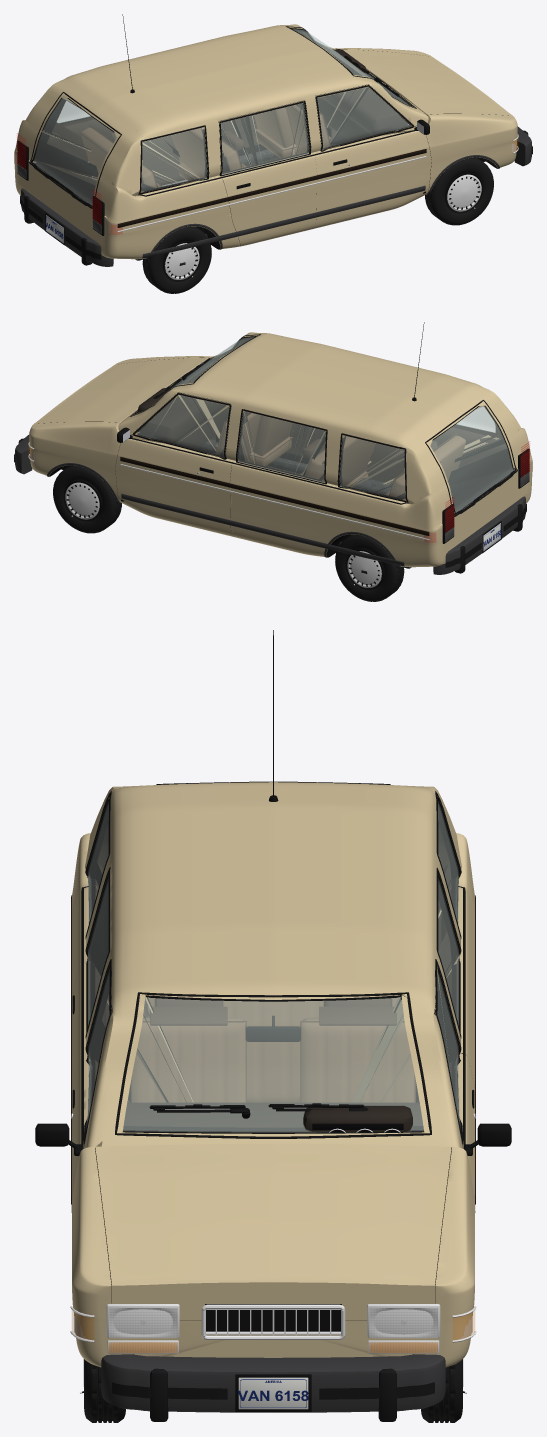
Rendered from minivan86.glb.
3 views of the same model, one above another, from view 1: azimuth 30°, elevation 25°; view 2: azimuth 150°, elevation 25°; view 3: azimuth 270°, elevation 25° (orthographic). The views are drawn at different scales.
Visible parts, largest first — view 1: Body, Interior, Door_FR, Door_SR, Glass_Liftgate, Hood, Glass_SR, Glass, Glass_FR, Wheel_FR_mesh, Wheel_RR_mesh, Trim (+9 smaller); view 2: Body, Glass, Interior, Door_FL, Glass_Liftgate, Hood, Trim, Glass_FL, Wheel_FL_mesh, Wheel_RL_mesh, Trim_FL, Bumper_R (+6 smaller); view 3: Body, Hood, Glass, Interior, Bumper_F, Ends, Trim, Lamps_Head, Door_FL, Door_FR, Door_SR, Trim_FL (+9 smaller).
Boxes of the visible parts, bbox=[...] form: Body: bbox=[14, 24, 517, 259]; Interior: bbox=[81, 49, 407, 187]; Door_FR: bbox=[314, 84, 431, 228]; Door_SR: bbox=[219, 100, 316, 246]; Glass_Liftgate: bbox=[29, 92, 121, 208]; Hood: bbox=[342, 49, 512, 115]; Glass_SR: bbox=[218, 103, 311, 175]; Glass: bbox=[57, 26, 416, 191]; Glass_FR: bbox=[315, 85, 411, 151]; Wheel_FR_mesh: bbox=[425, 157, 493, 225]; Wheel_RR_mesh: bbox=[142, 226, 211, 293]; Trim: bbox=[117, 14, 499, 258]; Body: bbox=[29, 332, 532, 567]; Glass: bbox=[130, 334, 495, 499]; Interior: bbox=[138, 365, 465, 496]; Door_FL: bbox=[115, 392, 232, 536]; Glass_Liftgate: bbox=[425, 400, 517, 516]; Hood: bbox=[34, 357, 208, 423]; Trim: bbox=[47, 322, 429, 566]; Glass_FL: bbox=[137, 392, 231, 459]; Wheel_FL_mesh: bbox=[53, 465, 121, 533]; Wheel_RL_mesh: bbox=[335, 534, 404, 601]; Trim_FL: bbox=[117, 393, 232, 525]; Bumper_R: bbox=[433, 496, 526, 574]; Body: bbox=[72, 782, 474, 1367]; Hood: bbox=[95, 1143, 451, 1320]; Glass: bbox=[88, 802, 459, 1138]; Interior: bbox=[123, 997, 423, 1132]; Bumper_F: bbox=[101, 1354, 445, 1421]; Ends: bbox=[70, 1304, 476, 1411]; Trim: bbox=[71, 630, 475, 1118]; Lamps_Head: bbox=[109, 1309, 437, 1337]; Door_FL: bbox=[434, 958, 474, 1196]; Door_FR: bbox=[72, 958, 112, 1196]; Door_SR: bbox=[72, 867, 110, 1087]; Trim_FL: bbox=[435, 959, 511, 1212].
Bounding box in the file's own units: 4.5 × 2.41 × 2.09.
Materials: 34 (5 with a texture image).
